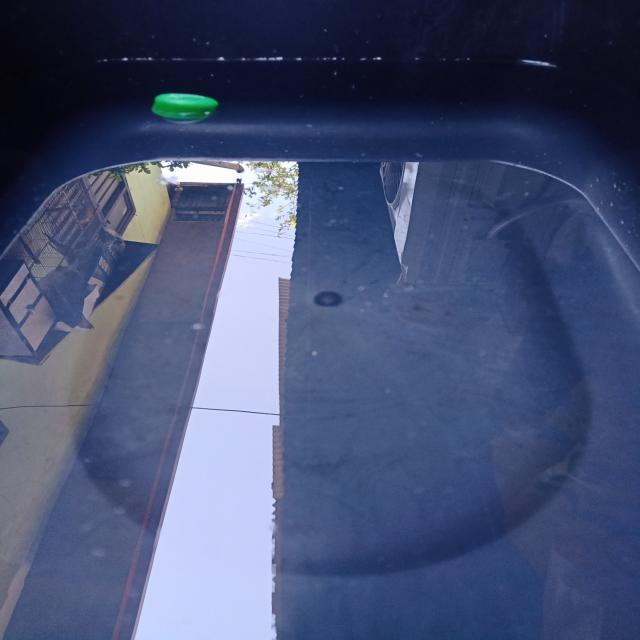Bottle Lid: (139, 81, 233, 131)
